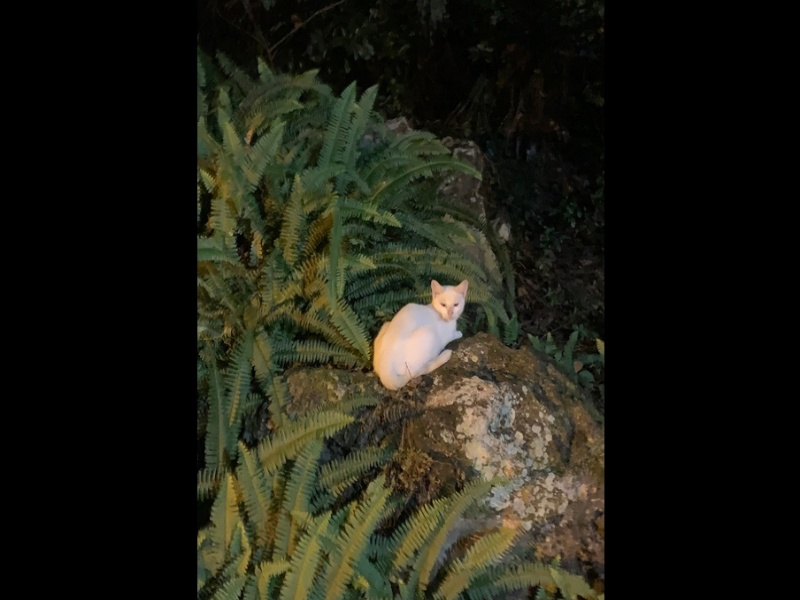cat: (373, 275, 472, 394)
